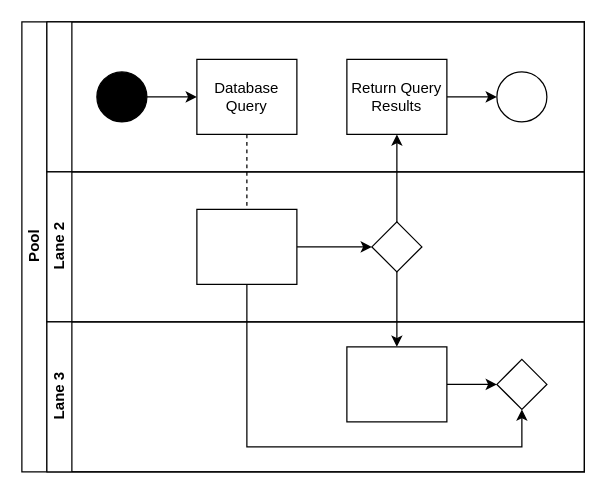
Some shapes in this 606 by 494 pixel diagram are drawn without their labels. Each missing label, with the box of its shape:
Access Database: (196, 208, 297, 284)
Lane 1: (46, 21, 584, 172)
Search Database: (346, 346, 447, 422)
